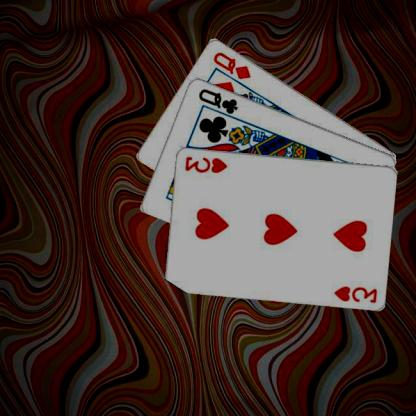3H: (333, 283, 379, 304), (184, 154, 230, 174)
QC: (198, 85, 240, 115)
QD: (213, 48, 254, 80)
